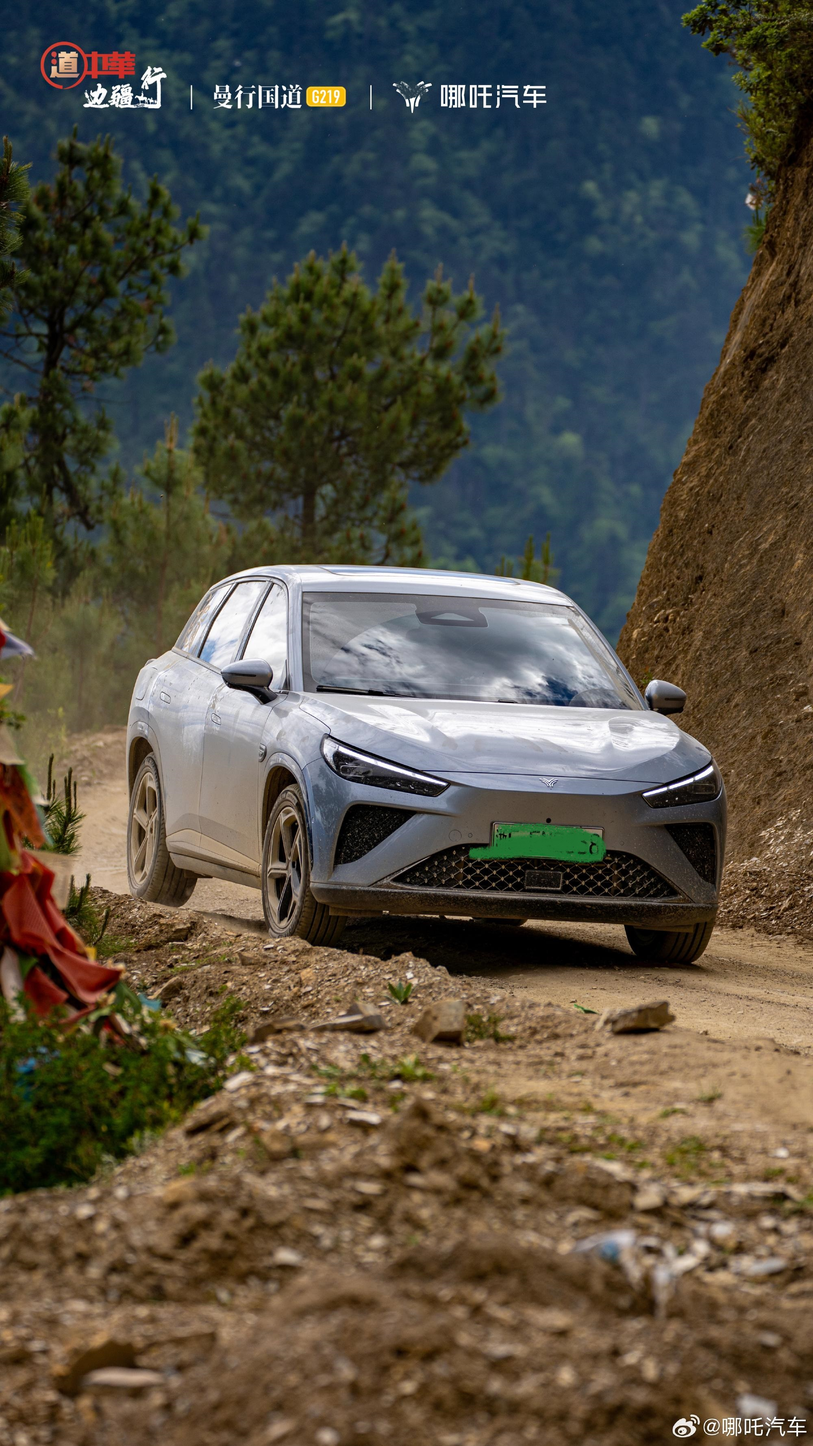NETA: (539, 777, 558, 790)
